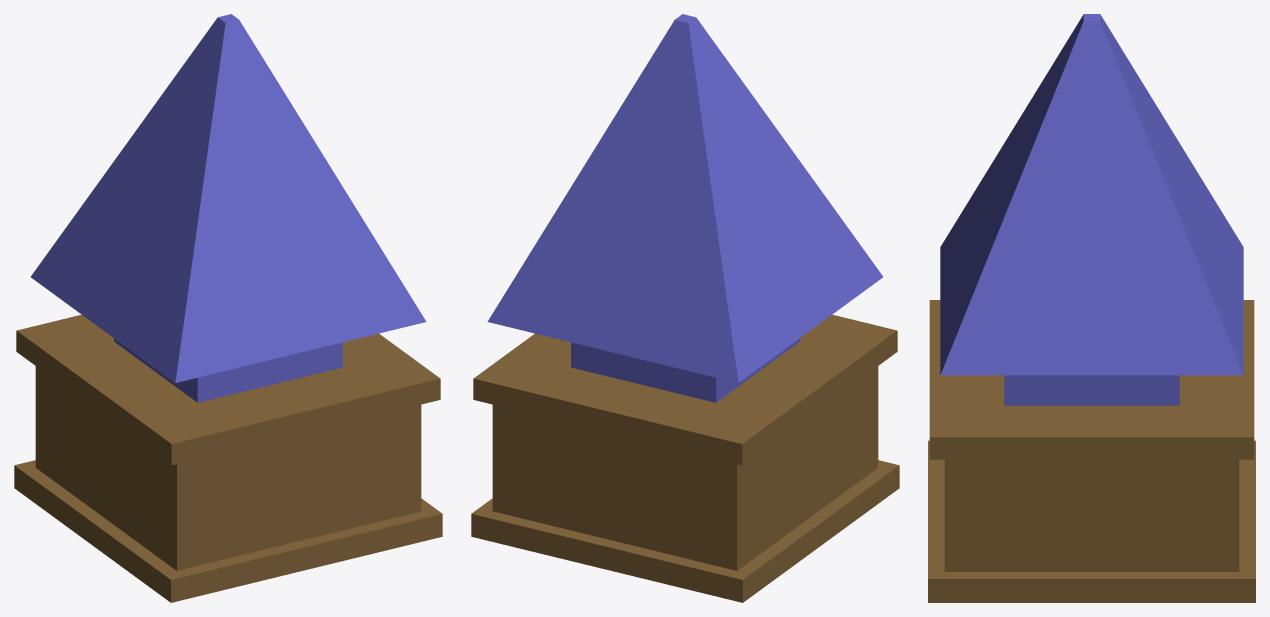
The model's file is torre.fbx.
3 renders of one model, left to right at view 1: azimuth 30°, elevation 25°; view 2: azimuth 150°, elevation 25°; view 3: azimuth 270°, elevation 25°, orthographic. The views are drawn at different scales.
Visible parts, largest first — view 1: Plane; view 2: Plane; view 3: Plane.
Part boxes in pixels (<box>): Plane: <box>14,14,442,602</box>; Plane: <box>471,14,899,602</box>; Plane: <box>928,14,1255,602</box>.
Size of the model in its own units: 400 by 695 by 400.
